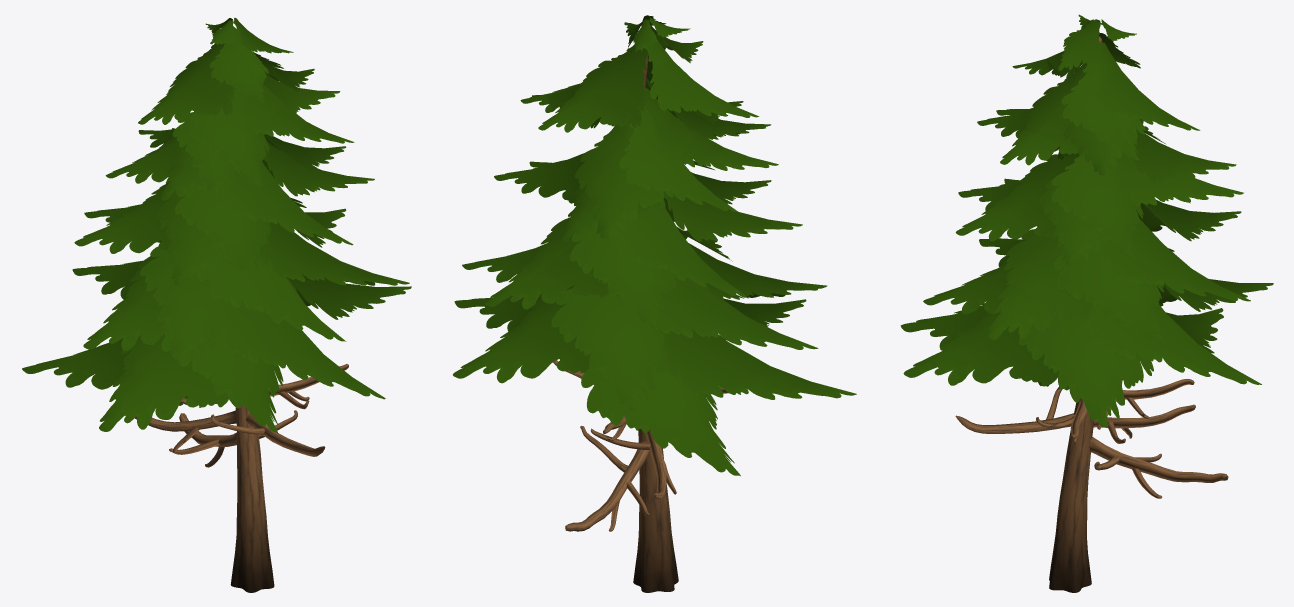
The model's file is pine-1.glb.
The picture shows the model from 3 angles, left to right: view 1: azimuth 30°, elevation 25°; view 2: azimuth 150°, elevation 25°; view 3: azimuth 270°, elevation 25°; orthographic projection. The views are drawn at different scales.
Visible parts, largest first — view 1: Pine_1; view 2: Pine_1; view 3: Pine_1.
Boxes of the visible parts, x1,y1,x2,y2 form: Pine_1: [22, 18, 411, 592]; Pine_1: [453, 15, 856, 592]; Pine_1: [900, 14, 1273, 592].
Size of the model in its own units: 4.94 by 7.32 by 4.54.
Materials: 2 (2 with a texture image).
